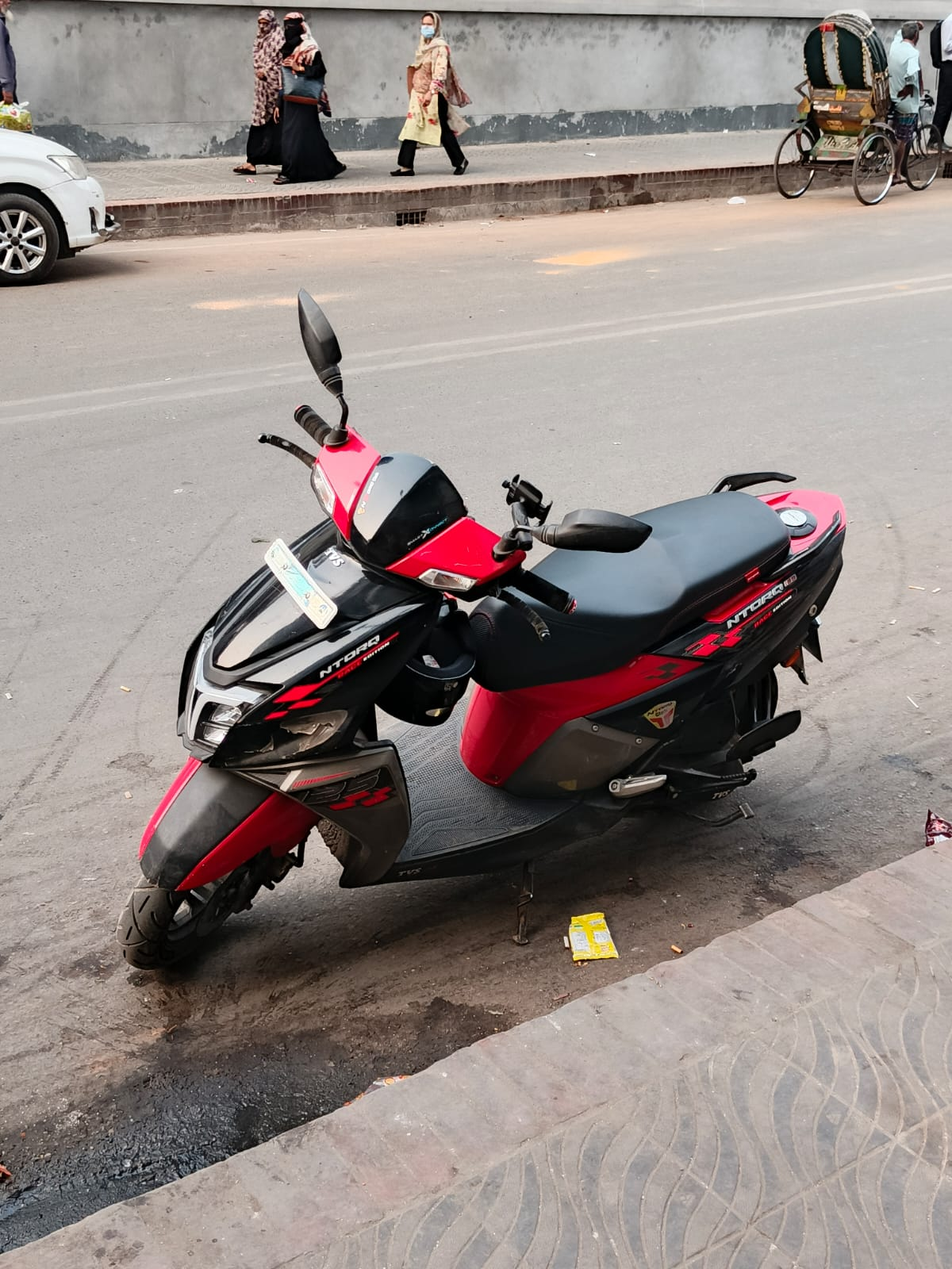Bikes: (91, 283, 854, 970)
